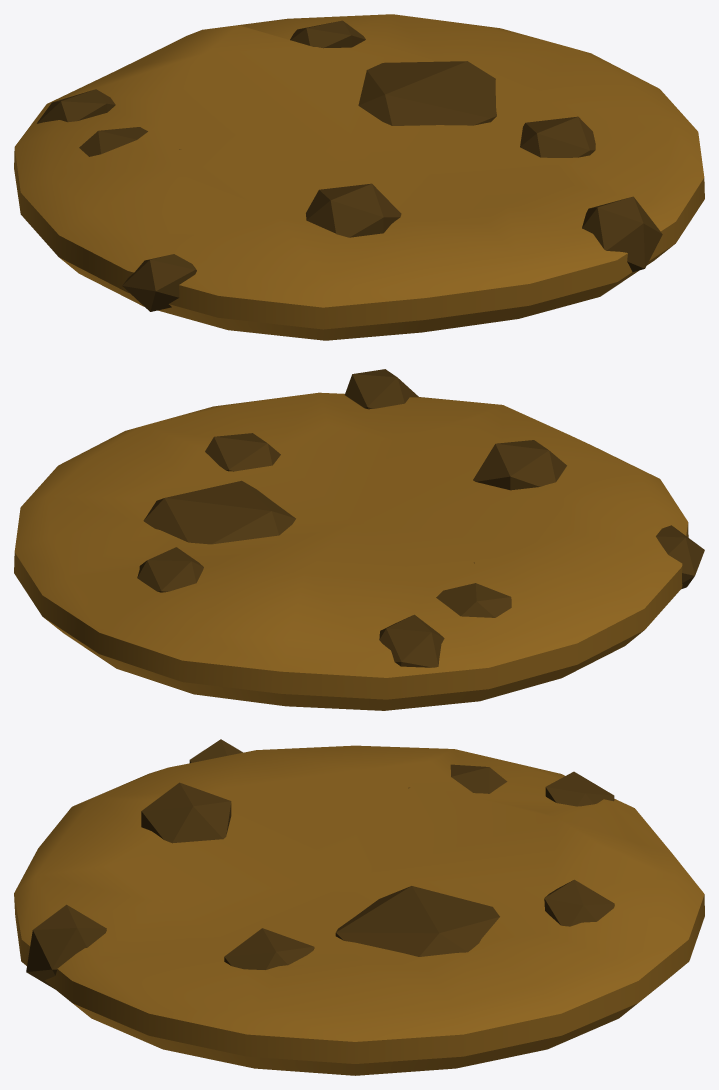
The model's file is geo_Cookie.fbx.
3 views of the same model, one above another, from view 1: azimuth 30°, elevation 25°; view 2: azimuth 150°, elevation 25°; view 3: azimuth 270°, elevation 25° (orthographic). The views are drawn at different scales.
Parts seen in each view (by area): view 1: pPlatonic9; view 2: pPlatonic9; view 3: pPlatonic9.
Boxes of the visible parts, bbox=[...] form: pPlatonic9: bbox=[14, 14, 704, 340]; pPlatonic9: bbox=[14, 369, 704, 710]; pPlatonic9: bbox=[14, 739, 704, 1075].
Size of the model in its own units: 17.68 by 2.76 by 17.39.
Materials: 1 (1 with a texture image).
